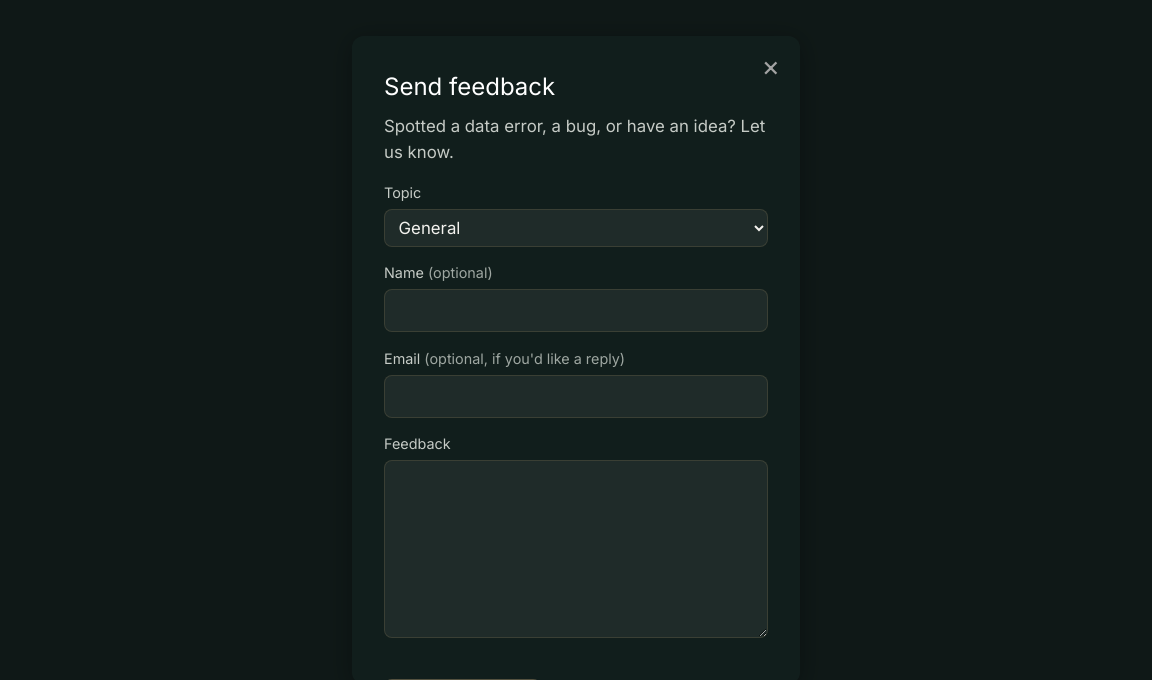
it: FeedbackModal › shows a validation error and sends nothing when the feedback is too short
In the text box labelled "Feedback": x=576, y=549 384,460 -> 768,638, type "hi"
(page scrolled)
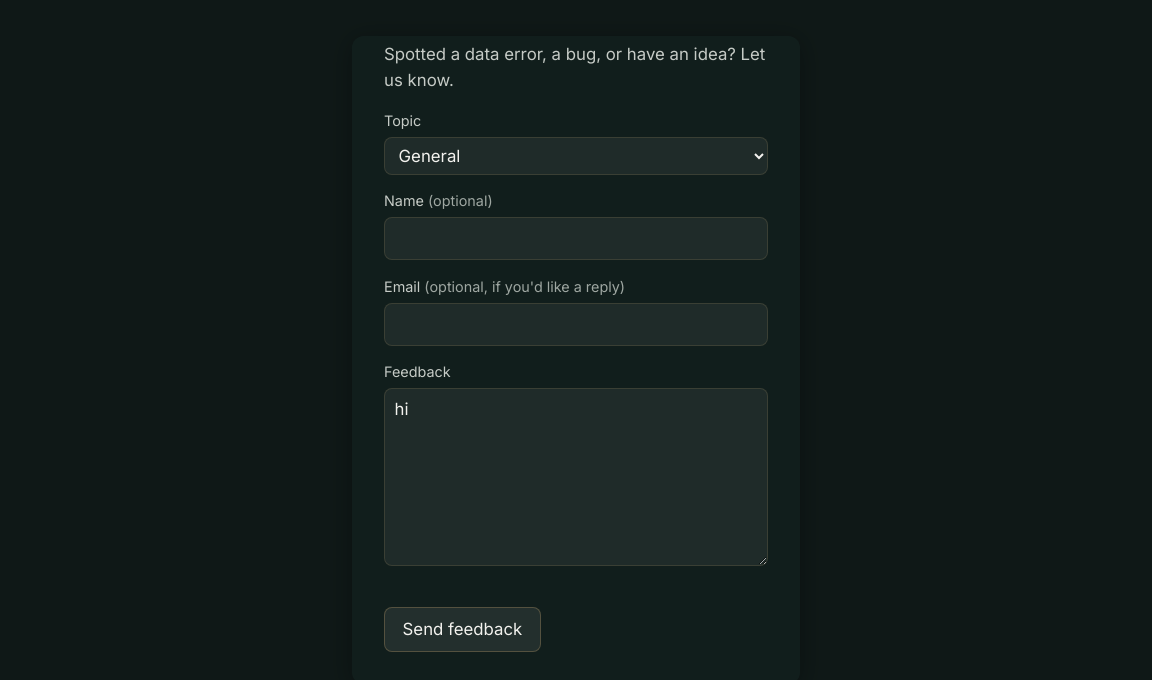
Click the button "Send feedback": x=462, y=630 384,607 -> 541,652
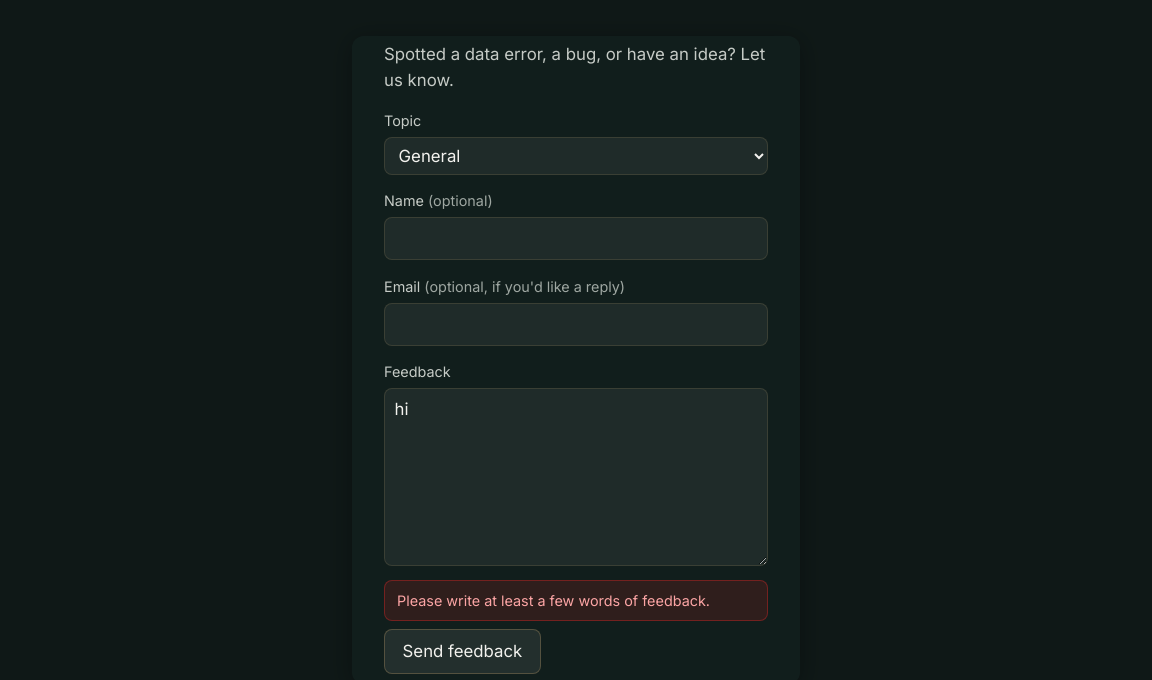
Check: the text "Please write at least a few words of feedback." is shown, box 384,580 -> 768,621
